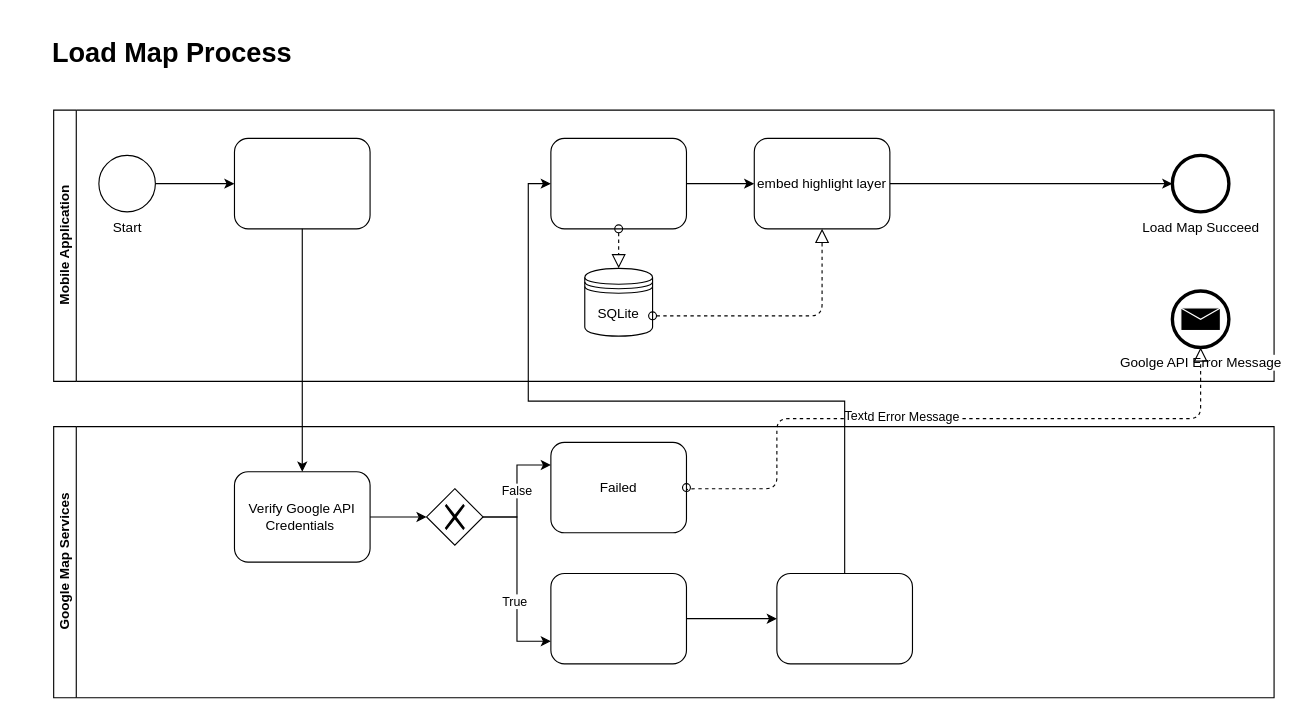
Some shapes in this 1301 by 718 pixel diagram are drawn without their labels. Each missing label, with the centre of its shape:
Call Google Map API: [301,183]
Load Google Map: [844,618]
Store Map data: [618,183]
Verification successfull: [618,618]
